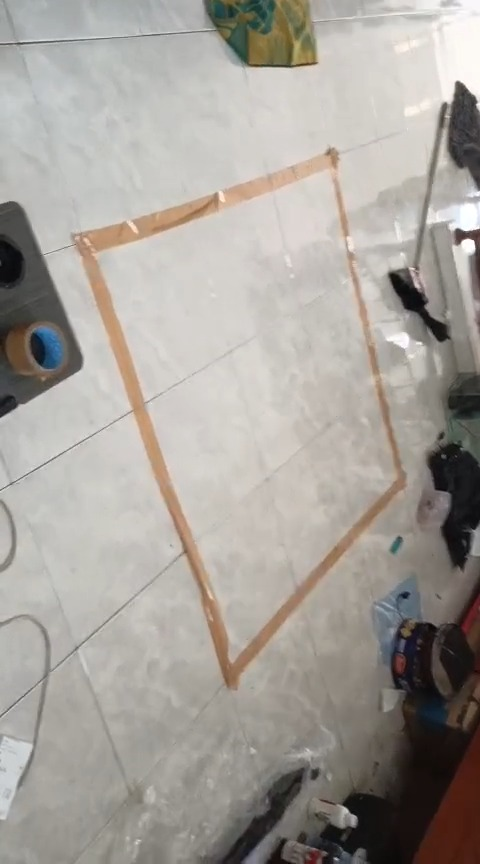floor marking: (74, 148, 405, 687)
